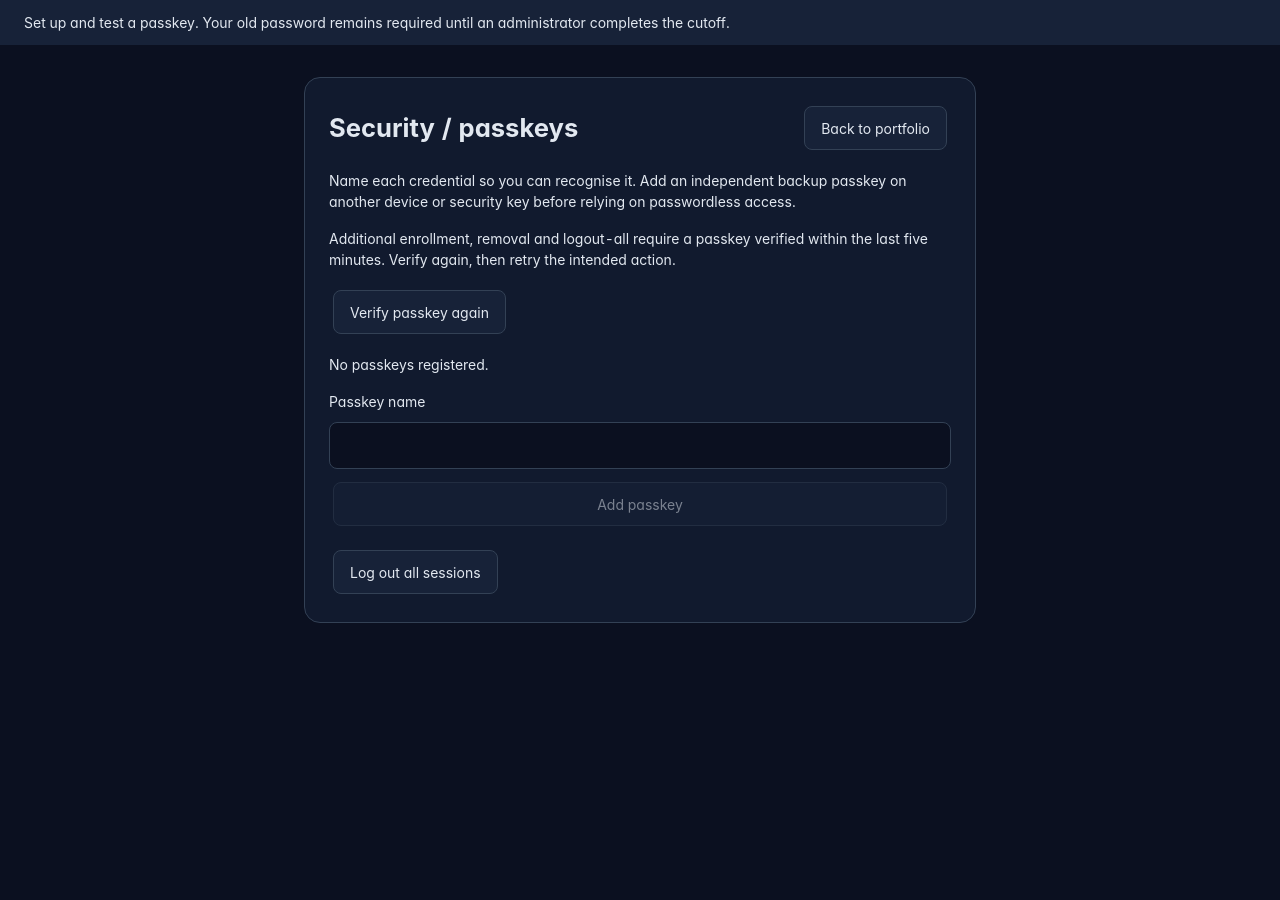
it: enrolls named first and backup passkeys, reads back the list, and explains Basic migration
Expected: the heading "Security / passkeys" is shown, [329,109,578,147]
Expected: the text "No passkeys registered." is shown, [329,356,489,373]
Type "Gaming PC" into the field labelled "Passkey name" at (640, 445), box [329,422,951,469]
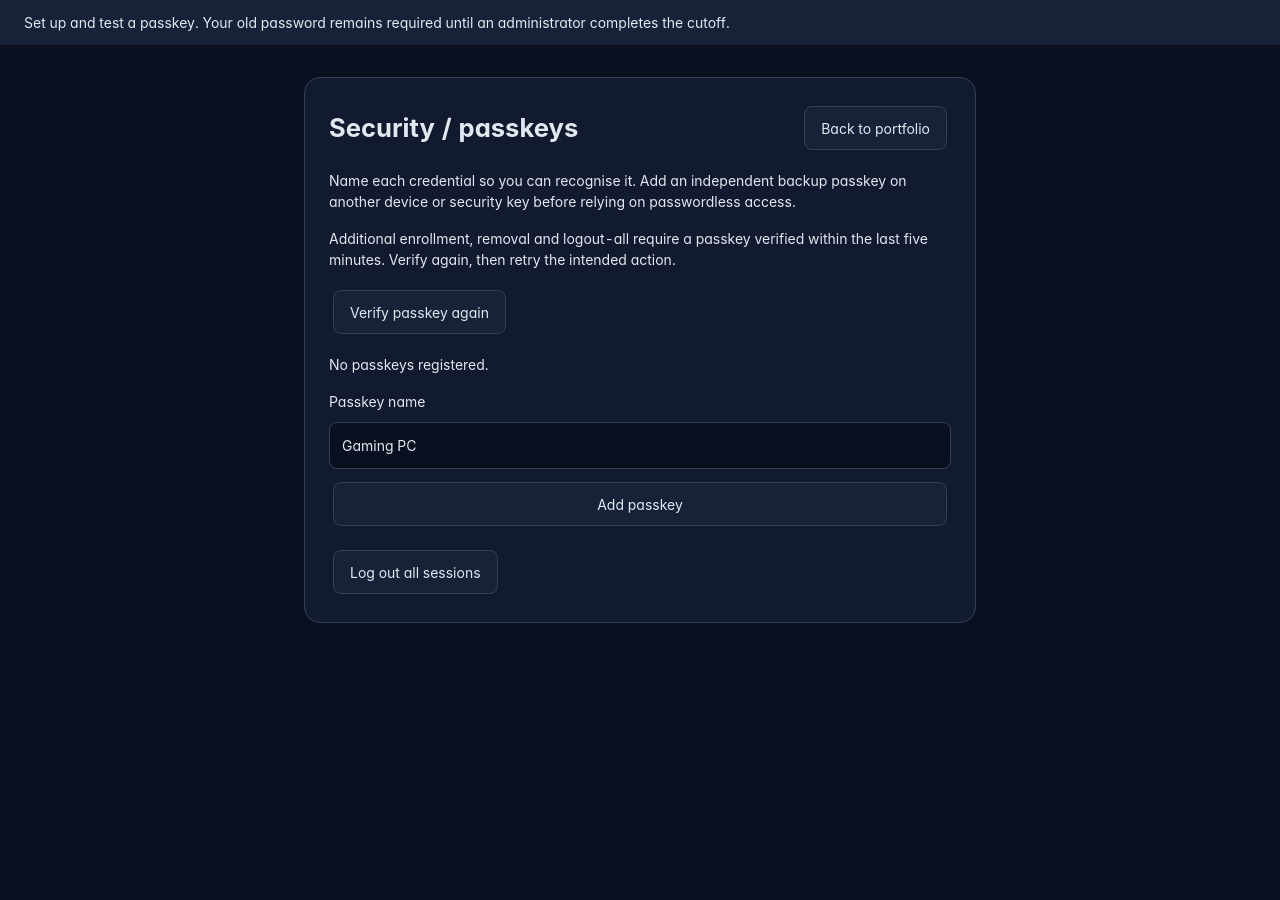
Click the button "Add passkey" at (640, 504), box [333,482,947,526]
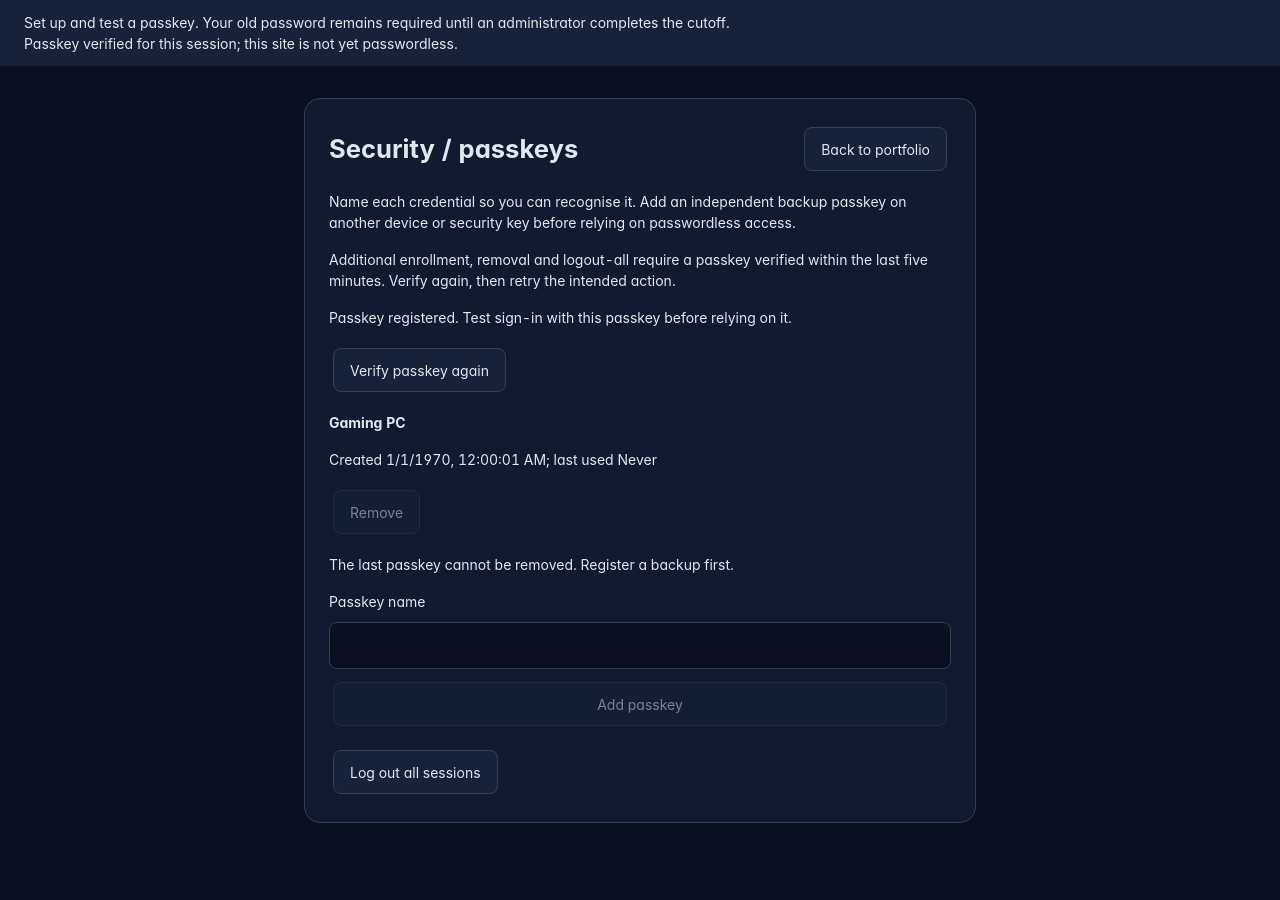
Expected: the text "independent backup passkey" is shown, [329,193,907,231]
Expected: the text "Gaming PC" is shown, [329,414,406,431]
Expected: the text "not yet passwordless" is shown, [24,35,458,52]
Type "Backup key" into the field labelled "Passkey name" at (640, 645), box [329,622,951,669]
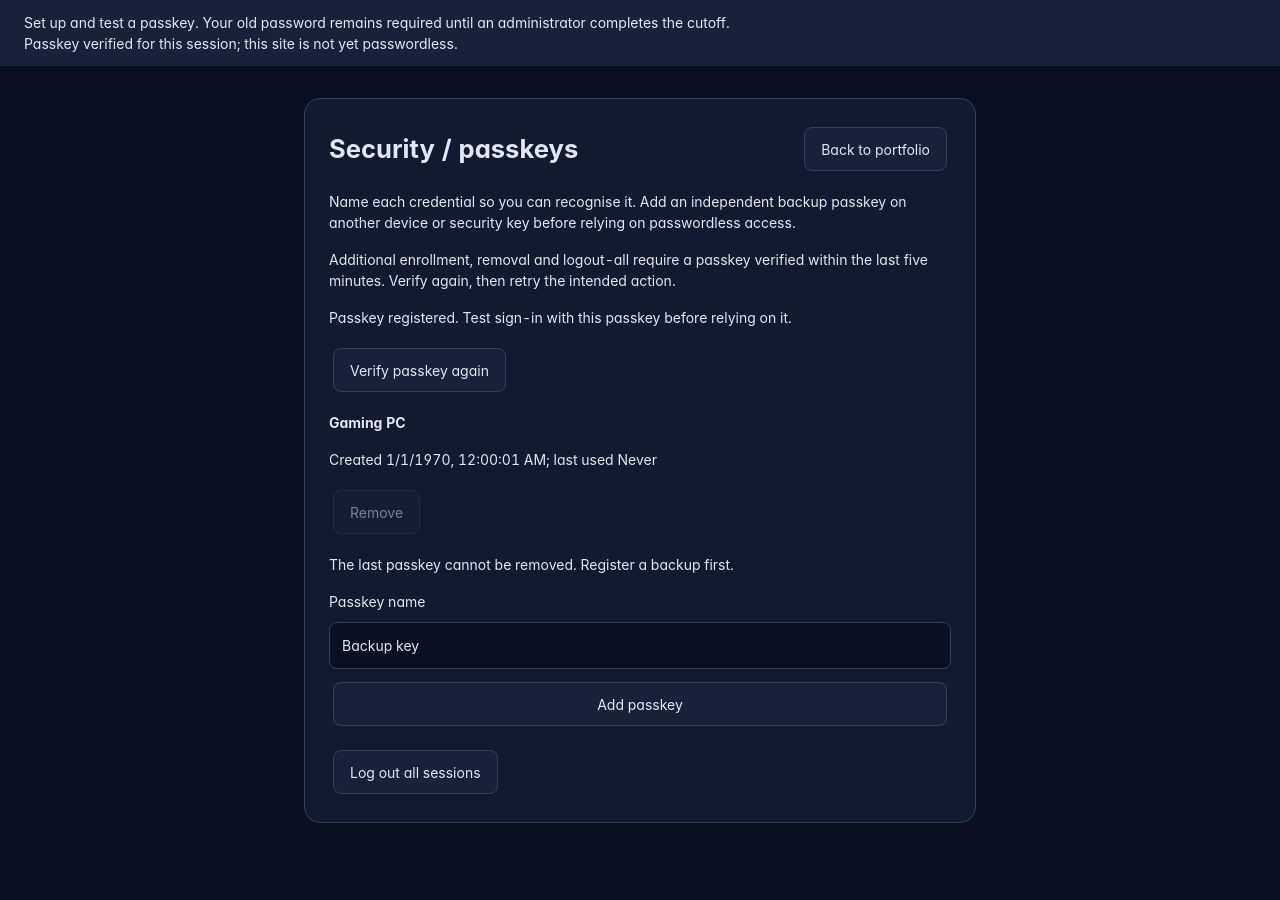
Click the button "Add passkey" at (640, 704), box [333,682,947,726]
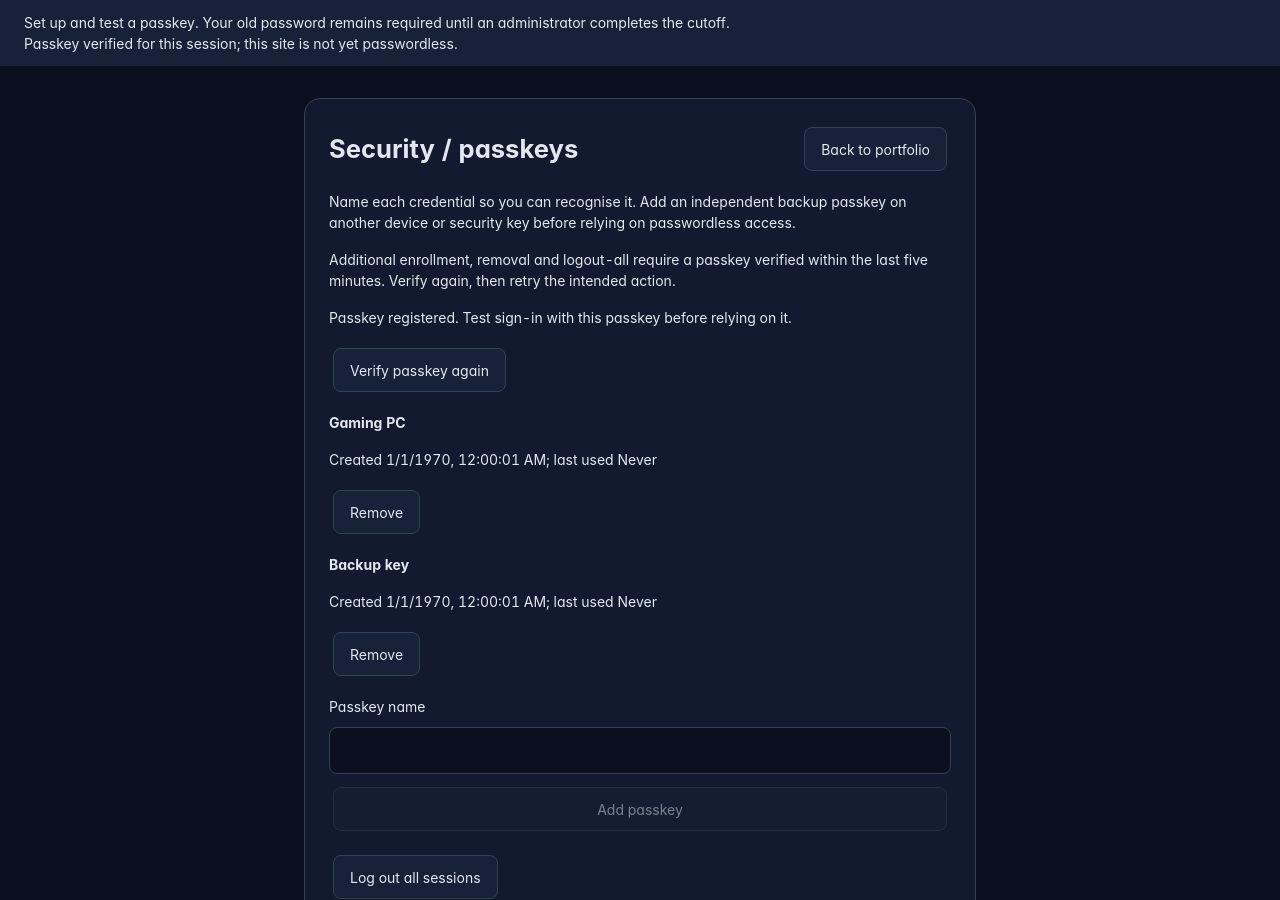
Expected: the text "Backup key" is shown, [329,556,409,573]
